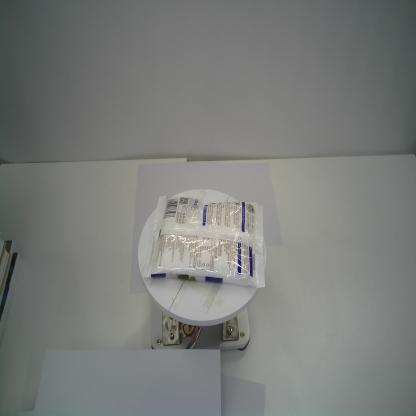Seasoner: (141, 193, 266, 288)
